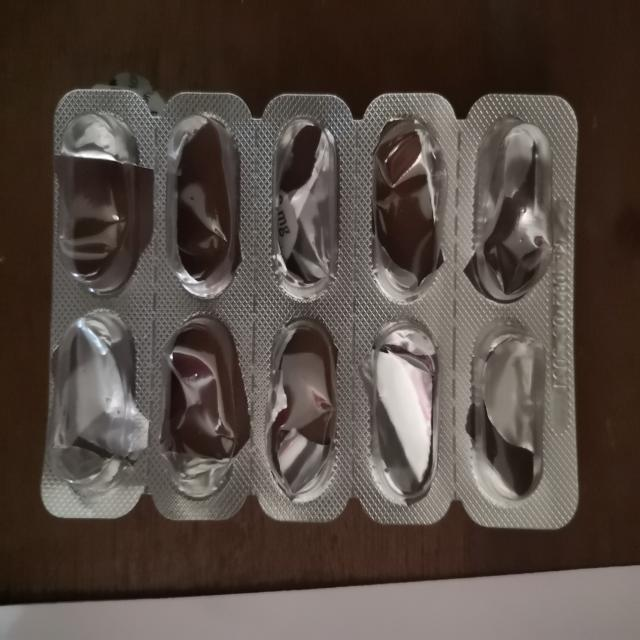Empty: (466, 109, 556, 313), (155, 309, 246, 502), (59, 110, 148, 301), (367, 114, 448, 310), (161, 113, 245, 300), (467, 322, 549, 508), (266, 314, 342, 506), (364, 319, 440, 510), (270, 113, 344, 309)
